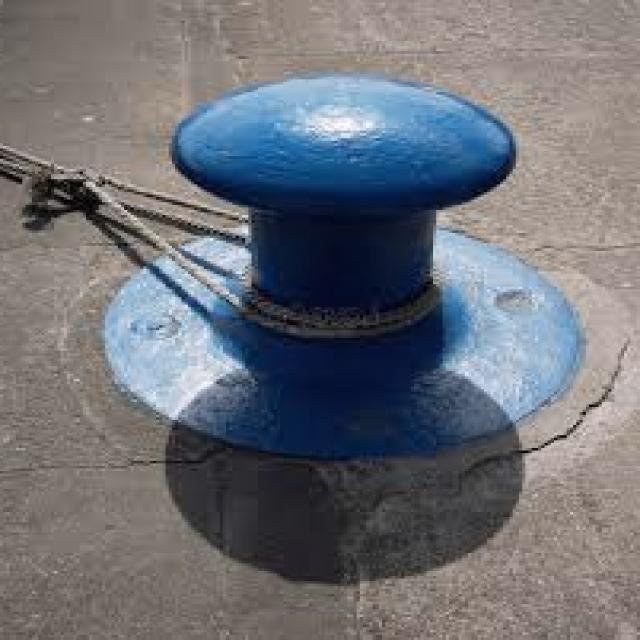bollard: (71, 75, 590, 454)
